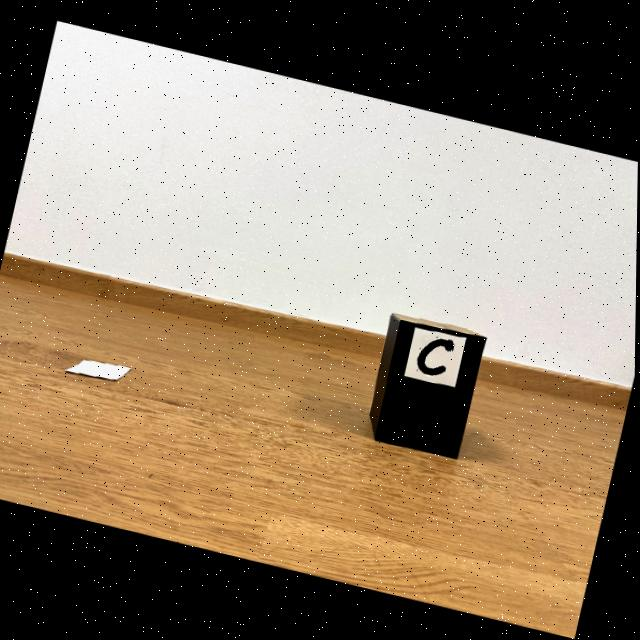C: (418, 336, 454, 373)
